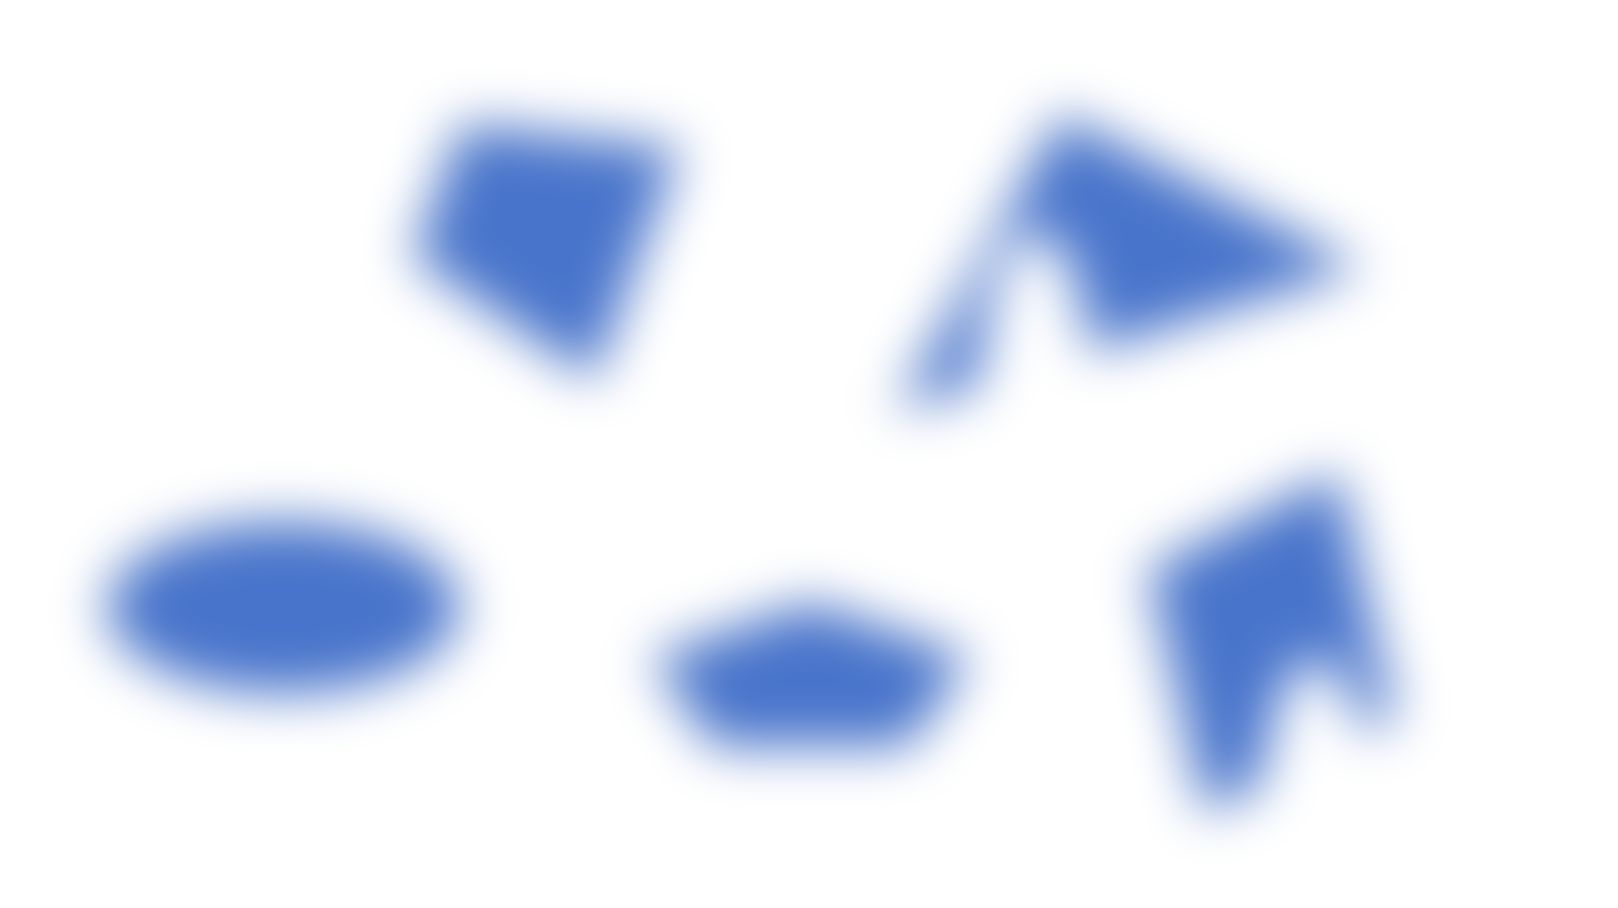circle: (93, 491, 465, 725)
parallelogram: (1139, 453, 1424, 837)
pentagon: (643, 575, 976, 772)
trapezium: (418, 104, 690, 378)
triangle: (885, 102, 1379, 416)
